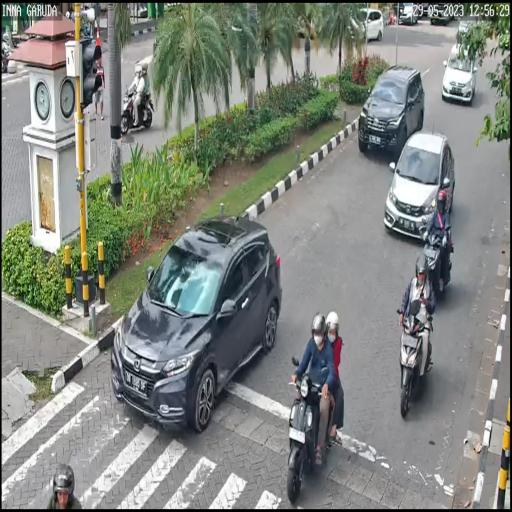mobil: (107, 217, 282, 431), (382, 132, 456, 236), (357, 62, 425, 156), (442, 41, 473, 106)
motor: (287, 356, 339, 503), (396, 306, 434, 420), (421, 220, 454, 302)
